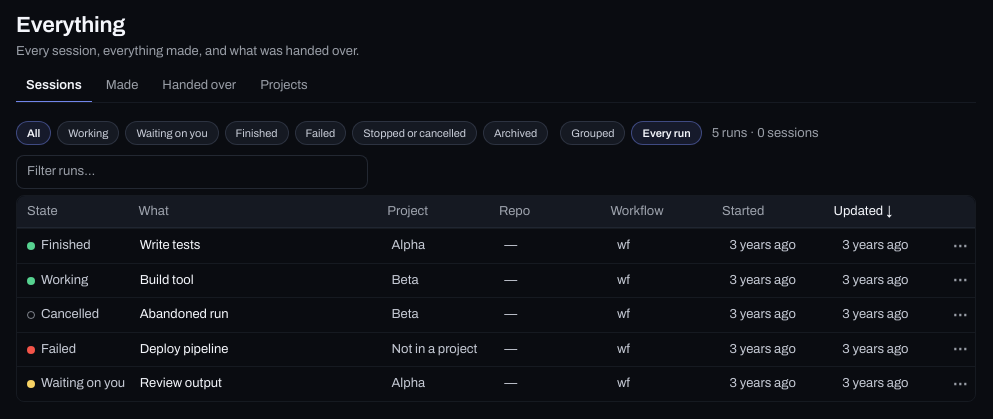
S17b Every-run table › R12 text filter narrows the rows
The width and height of the screenshot is (993, 419).
Check: the number of elements with test id "runs-row" is 5, box [17,228,975,263]; [17,263,975,297]; [17,297,975,332]; [17,332,975,366]; [17,366,975,401]
Type "Alpha" into the search field with test id "runs-filter" at (192, 172), box [16,155,368,189]
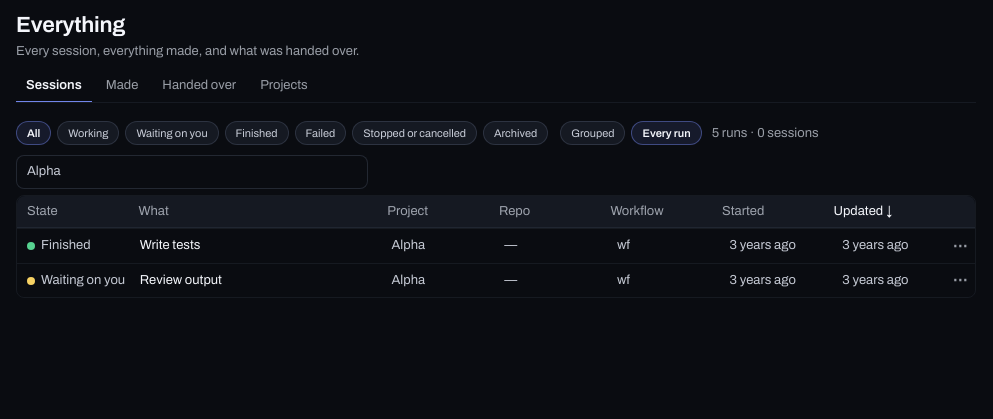
Check: the number of elements with test id "runs-row" is 2, box [17,228,975,263]; [17,263,975,297]
